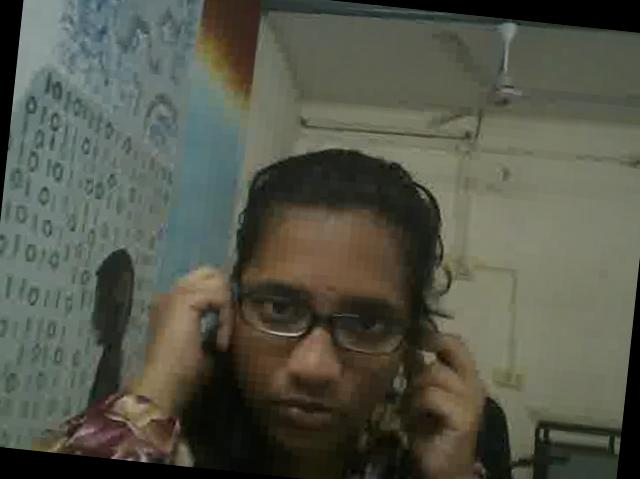bosan: (223, 221, 415, 468)
